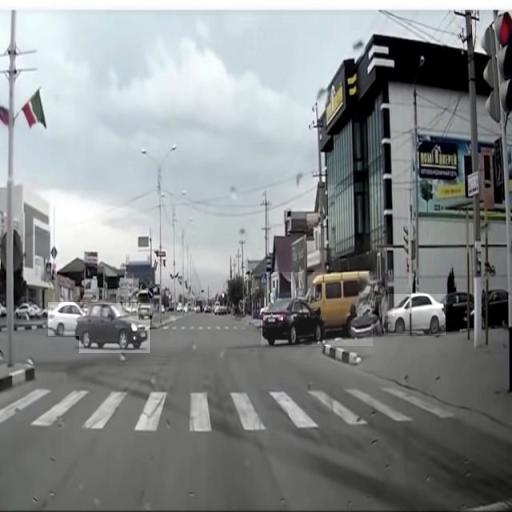小汽车: (79, 303, 150, 353), (388, 294, 446, 335), (48, 302, 88, 336)
小汽车撞小汽车: (262, 272, 374, 346)
